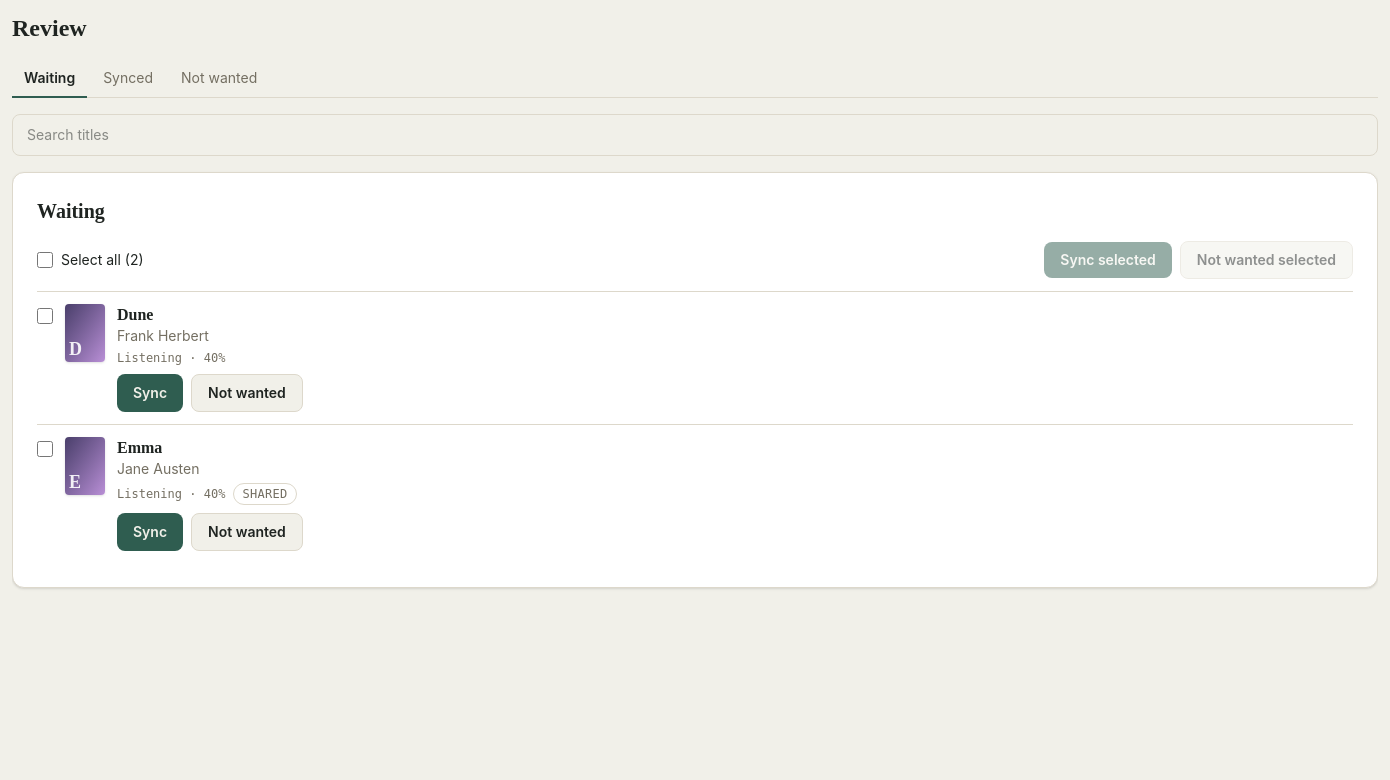
it: ReviewPage › select-all + Sync sends every visible asin, toasts and refreshes
Expected: the text "Dune" is shown, [117,306,154,323]
Click the checkbox labelled "Select all (2)" at [45, 260], box [37,252,53,268]
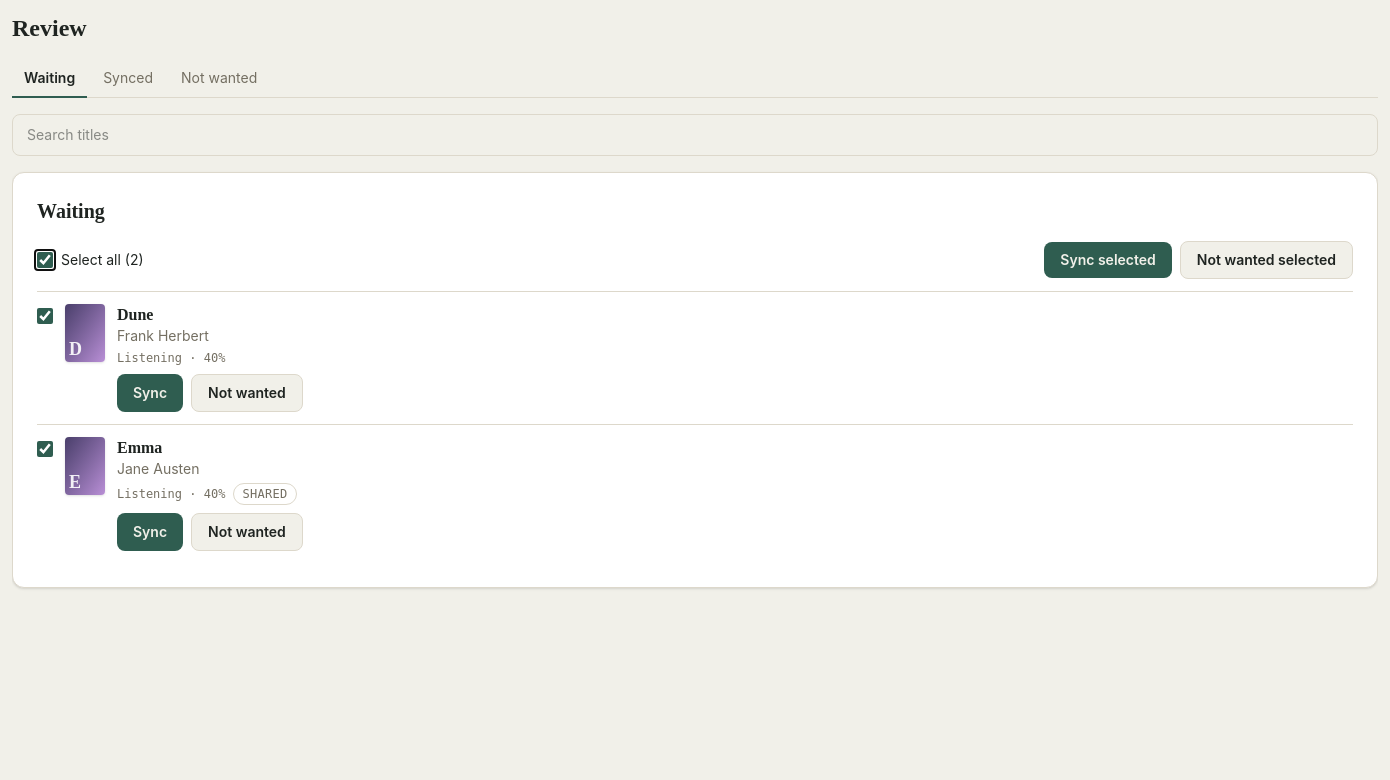
Click the button "Sync selected" at [1108, 260], box [1044,242,1172,278]
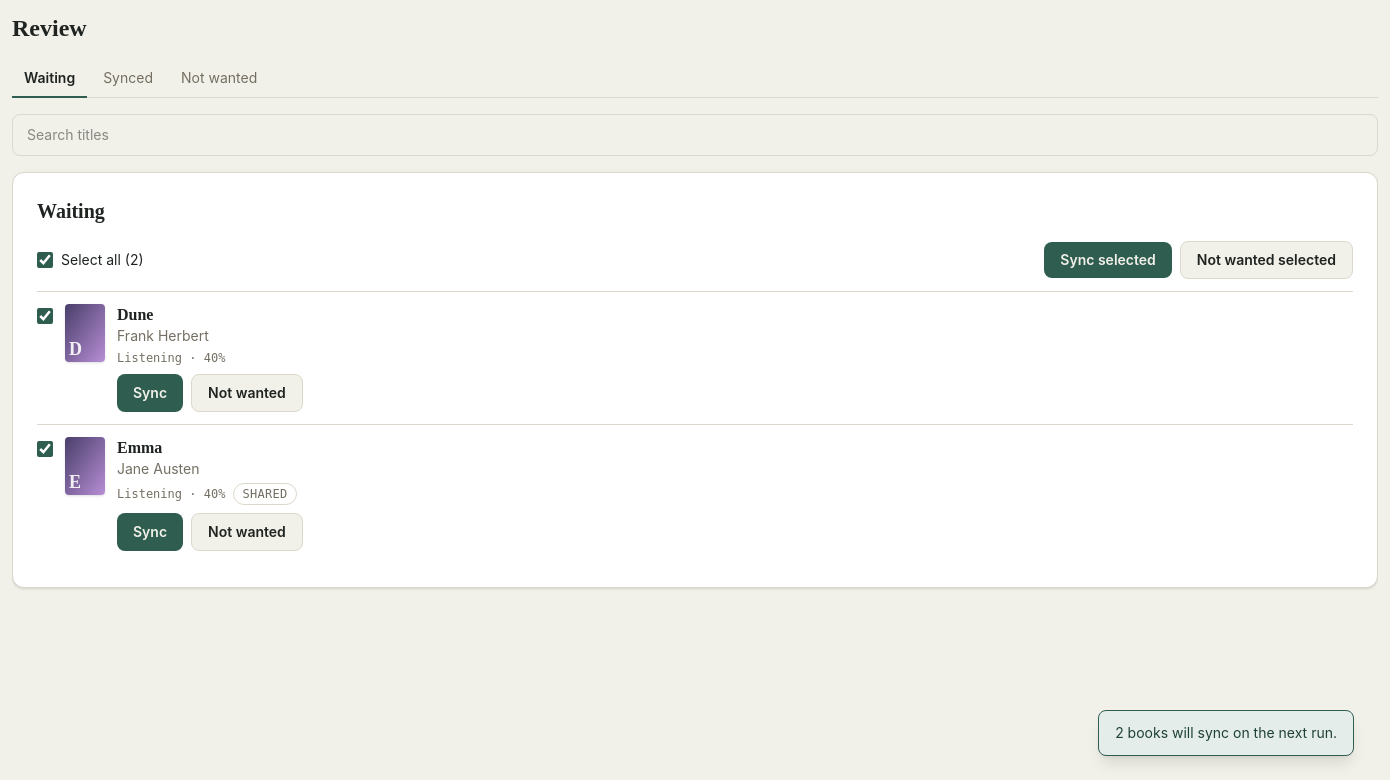
Now the message shows "2 books", box [1115,724,1337,741]
